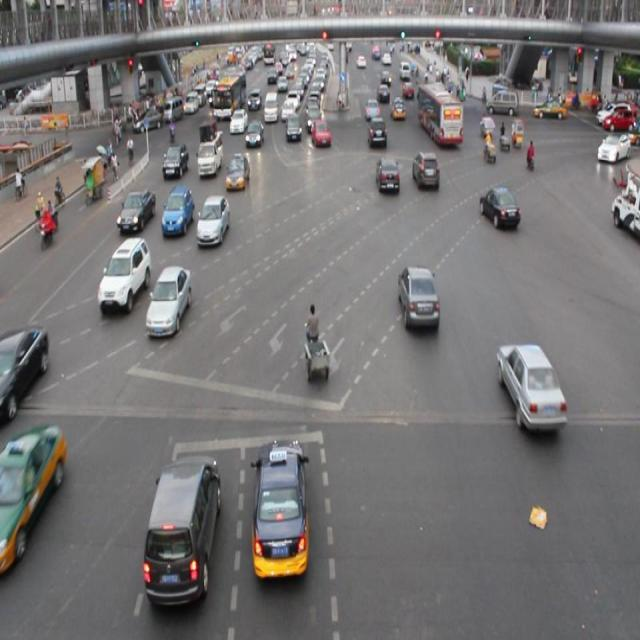BigCar: (420, 76, 464, 152)
car: (151, 444, 217, 604), (0, 415, 59, 582), (253, 444, 317, 586), (496, 335, 568, 447), (0, 316, 59, 415), (151, 257, 193, 356), (105, 230, 144, 322), (398, 266, 442, 336), (115, 174, 153, 242), (486, 170, 521, 240), (163, 180, 191, 242), (198, 191, 227, 246), (595, 91, 632, 132), (195, 135, 223, 181), (225, 148, 252, 194), (377, 155, 404, 198), (536, 88, 566, 126), (486, 91, 525, 120), (595, 134, 630, 166), (417, 150, 444, 189), (159, 138, 184, 173), (312, 116, 336, 148), (247, 114, 266, 150), (370, 116, 390, 145), (228, 105, 246, 133), (288, 110, 302, 144)
